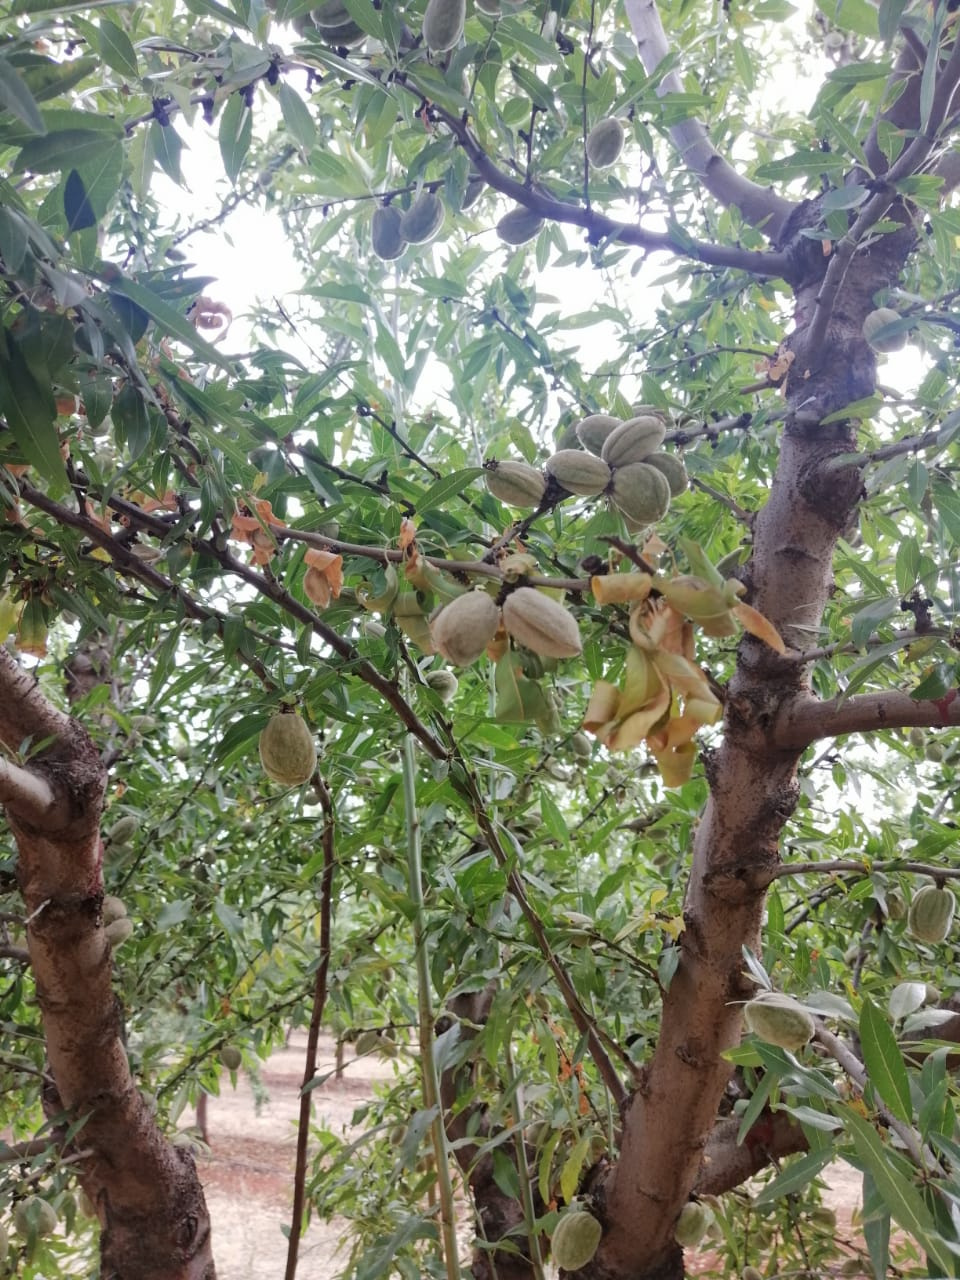chancre fusicocum: (125, 484, 783, 783)
